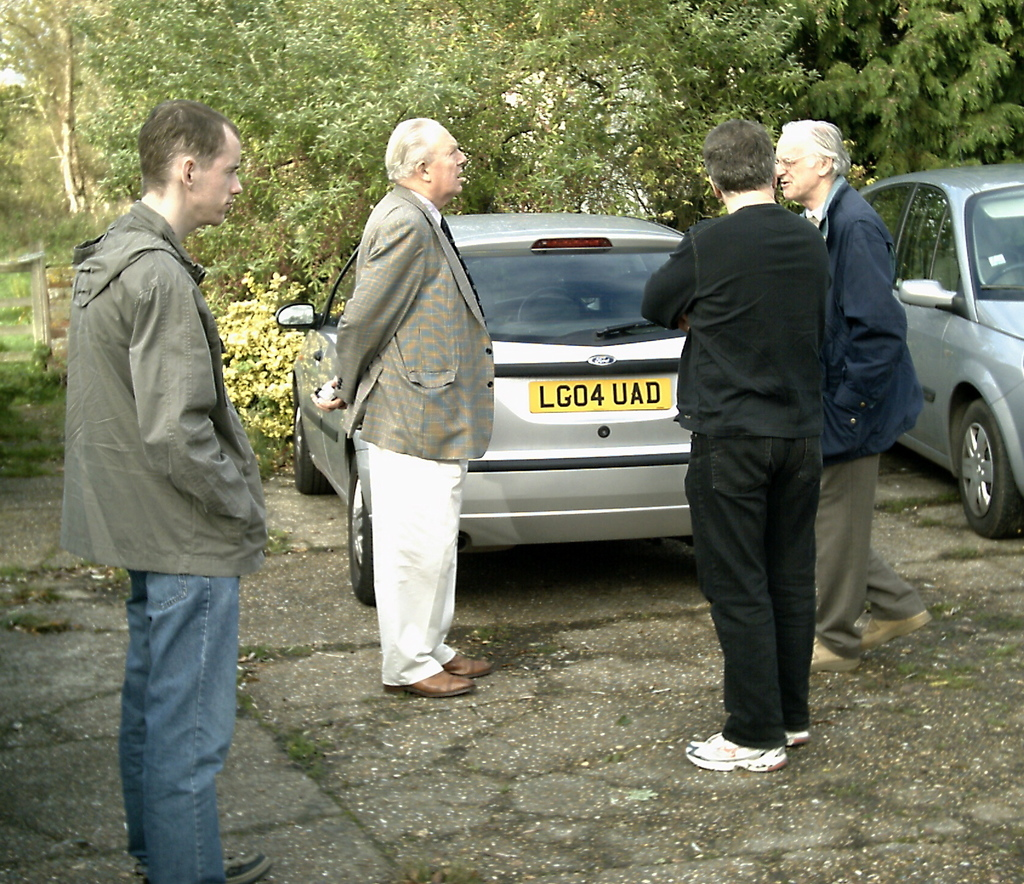Car: (268, 203, 696, 602), (850, 160, 1023, 545)
